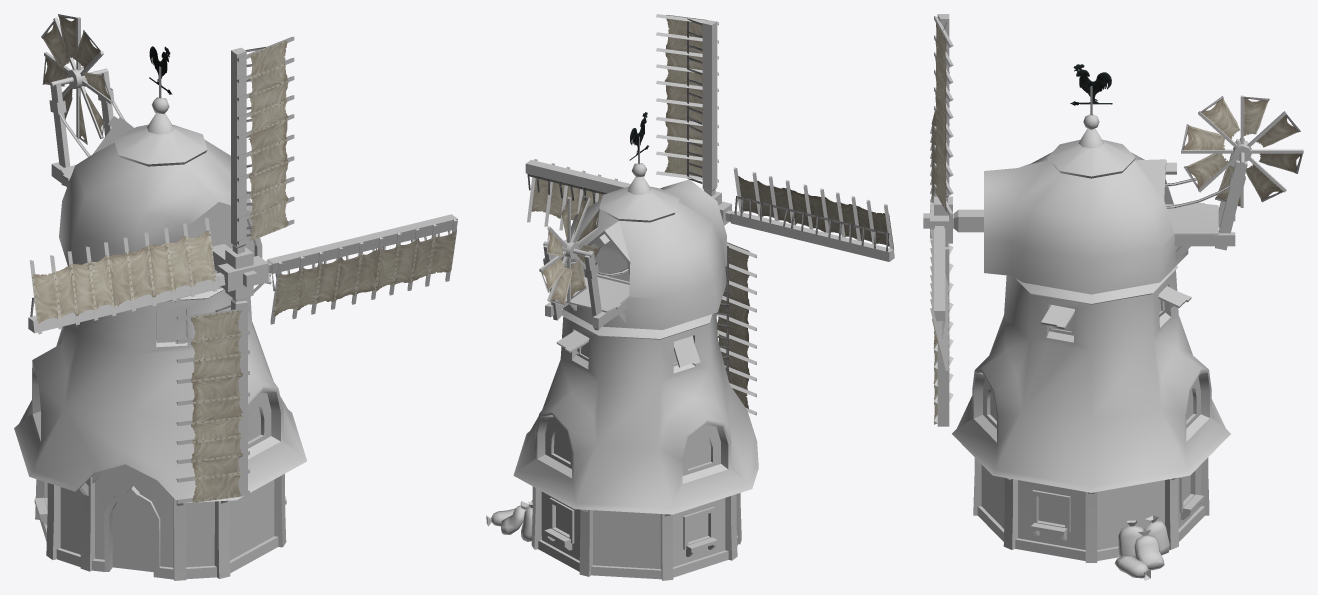
The model's file is windmill.fbx.
The picture shows the model from 3 angles, left to right: view 1: azimuth 30°, elevation 25°; view 2: azimuth 150°, elevation 25°; view 3: azimuth 270°, elevation 25°; orthographic projection. The views are drawn at different scales.
Parts seen in each view (by area): view 1: main, cloth (×2), top1, wings, small_fan; view 2: main, top1, cloth (×2), wings, small_fan; view 3: main, top1, cloth (×2), wings, small_fan, rooster.
Part boxes in pixels (x1=…): main: x1=14, y1=273, x2=306, y2=580; cloth (×2): x1=30, y1=14, x2=456, y2=502; top1: x1=49, y1=66, x2=262, y2=301; wings: x1=28, y1=36, x2=457, y2=503; small_fan: x1=44, y1=17, x2=113, y2=138; main: x1=486, y1=309, x2=758, y2=580; top1: x1=543, y1=137, x2=726, y2=330; cloth (×2): x1=527, y1=15, x2=893, y2=408; wings: x1=525, y1=14, x2=894, y2=415; small_fan: x1=539, y1=197, x2=598, y2=302; main: x1=952, y1=265, x2=1230, y2=580; top1: x1=984, y1=86, x2=1247, y2=294; cloth (×2): x1=931, y1=21, x2=1302, y2=420; wings: x1=923, y1=14, x2=983, y2=426; small_fan: x1=1181, y1=95, x2=1303, y2=207; rooster: x1=1070, y1=64, x2=1112, y2=105.
Size of the model in its own units: 979 by 1197 by 827.
